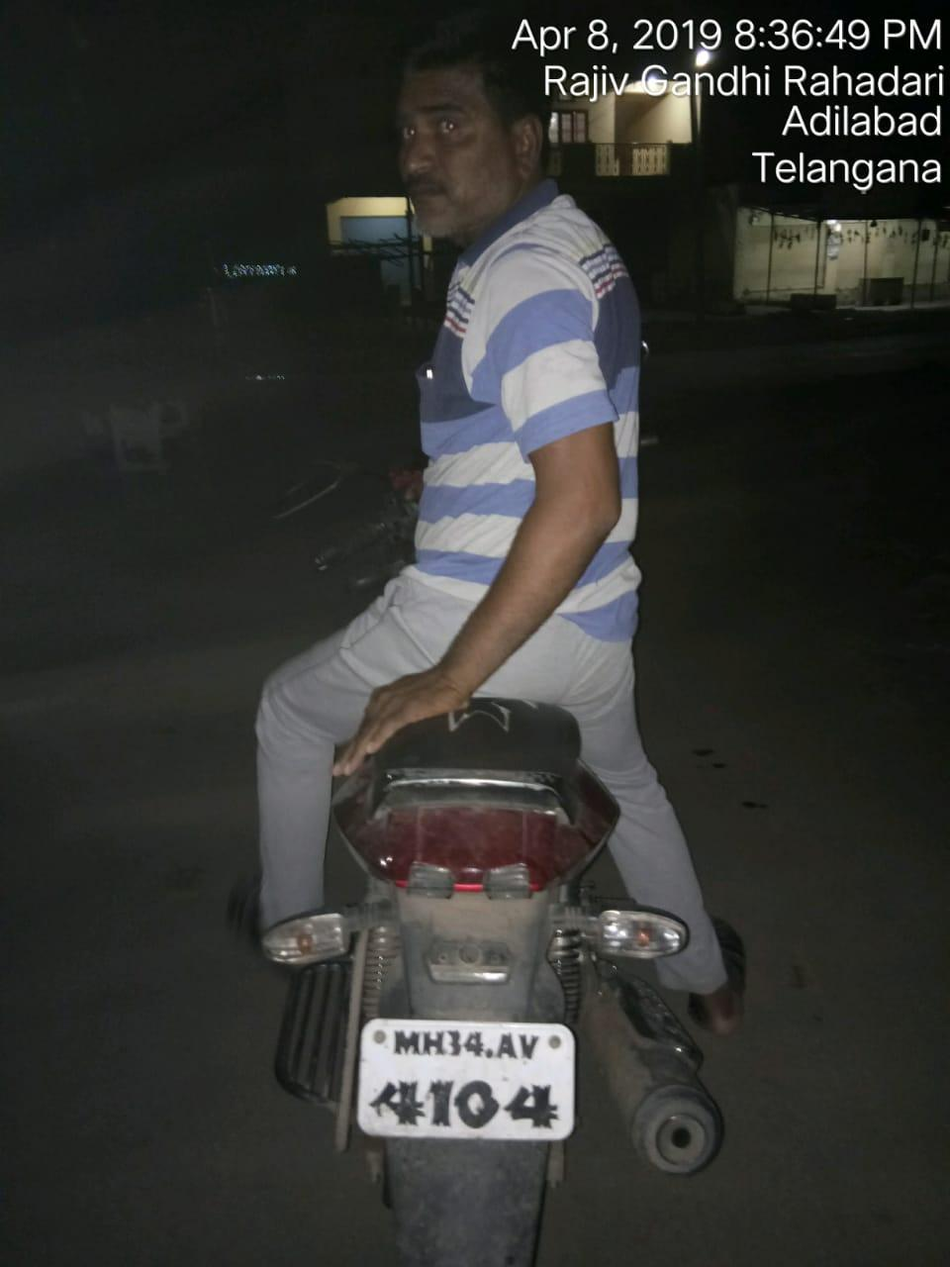plate: (351, 1009, 595, 1182)
